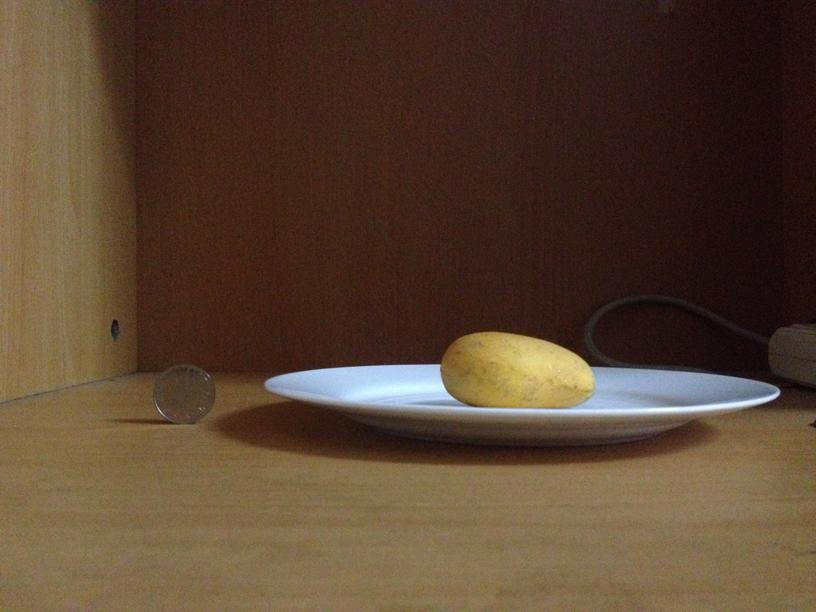coin: (156, 364, 215, 424)
mango: (440, 330, 593, 407)
